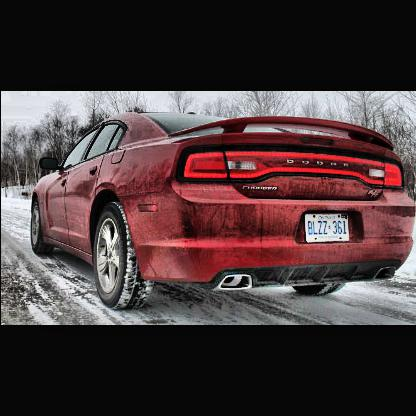Dodge Charger Sedan 2012: (26, 109, 416, 311)
